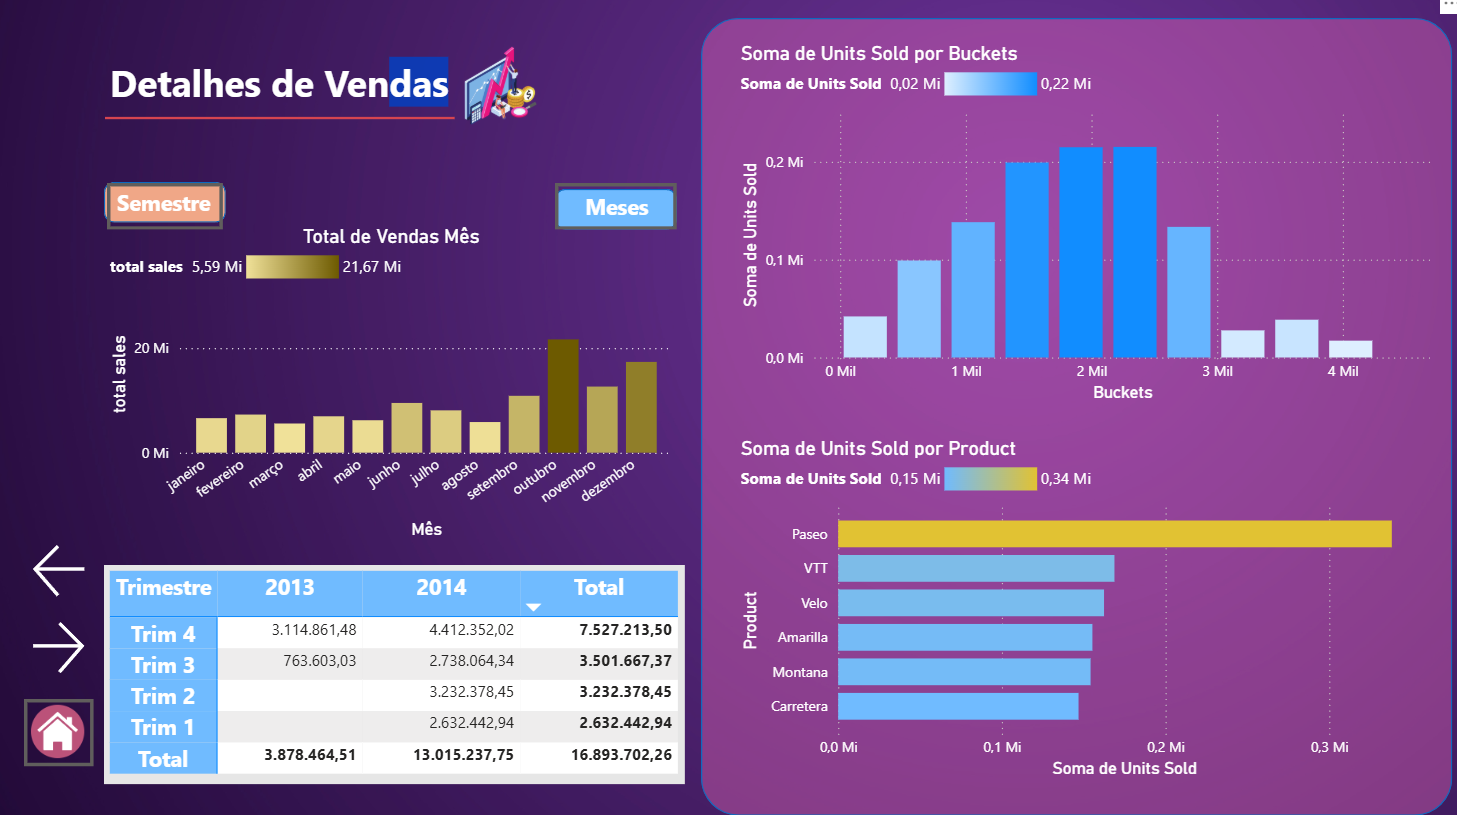

The dashboard page shown, as its layout file describes it:
{"tool":"powerbi","page":{"name":"Detalhes","canvas":[1280,720],"ordinal":2},"visuals":[{"type":"image","box":[5.3,0,1269.4,719.9],"z":0},{"type":"shape","title":"Sublinhado","box":[101.9,81.9,301.6,57],"z":0,"group":"g1"},{"type":"shape","box":[490.2,172.1,105.1,35],"z":0,"group":"g2"},{"type":"shape","box":[616,24,648,688],"z":1000},{"type":"textbox","box":[100.9,53.4,313.4,69.7],"z":1000,"group":"g1"},{"type":"shape","box":[100.9,165.6,105,35],"z":1000,"group":"g3"},{"type":"textbox","box":[492.1,169,103.1,42.2],"z":1000,"group":"g2"},{"type":"actionButton","box":[490.6,166.6,105,40.4],"z":1500,"group":"g2"},{"type":"group","id":"g1","title":"Título","box":[100.9,44.4,379.6,93.9],"z":2000},{"type":"image","title":"Ícone","box":[404.4,44.4,76.6,76.6],"z":2000,"group":"g1"},{"type":"image","box":[32.3,611.7,57.5,55.5],"z":2000,"group":"g4"},{"type":"textbox","box":[100.9,165.6,103.1,42.2],"z":3000,"group":"g3"},{"type":"clusteredBarChart","fields":{"Y":["Sum(financials.Units Sold)"],"Category":["financials.Product"]},"box":[645.4,385.1,605.1,299.6],"z":3000},{"type":"actionButton","box":[32.3,611.7,60,58],"z":3000,"group":"g4"},{"type":"actionButton","box":[103.4,166.3,99.9,40.4],"z":3500,"group":"g3"},{"type":"clusteredColumnChart","fields":{"Y":["Sum(financials.Units Sold)"],"Category":["financials.Buckets"]},"box":[645.4,44.2,605.1,316.3],"z":4000},{"type":"pivotTable","fields":{"Columns":["financials.Date.Variation.Hierarquia de datas.Ano"],"Rows":["financials.Date.Variation.Hierarquia de datas.Trimestre"],"Values":["Sum(financials.Profit)"]},"box":[100.9,495.6,500.7,188.8],"z":5000},{"type":"group","id":"g2","title":"Botão Mês","box":[490.2,166.6,105.4,44.6],"z":6000},{"type":"group","id":"g3","title":"Botão Semestre","box":[100.9,165.6,106,42.4],"z":7000},{"type":"clusteredColumnChart","title":"Total de Vendas Mês","fields":{"Category":["financials.Date.Variation.Hierarquia de datas.Mês"],"Y":["financials.total sales"]},"box":[100.9,201.9,495.6,276.6],"z":9000},{"type":"actionButton","title":"Botão - Next","box":[32.4,539.2,58,56.3],"z":10000},{"type":"actionButton","title":"Botão - Next","box":[34.3,472.4,57.5,56.5],"z":11000},{"type":"group","id":"g4","title":"Botão Home","box":[32.3,611.7,60,58],"z":12000}]}

Visuals, with their boxes in screenshot pixels (x1, y1, x2, y2), scaled from the page's 1280x720 canvas onto the 1457x815 screenshot:
image: bbox=[6, 0, 1451, 814]
"Sublinhado" shape: bbox=[116, 93, 459, 157]
shape: bbox=[558, 195, 678, 234]
shape: bbox=[701, 27, 1439, 806]
textbox: bbox=[115, 60, 472, 139]
shape: bbox=[115, 187, 234, 227]
textbox: bbox=[560, 191, 678, 239]
actionButton: bbox=[558, 189, 678, 234]
"Título" group: bbox=[115, 50, 547, 157]
"Ícone" image: bbox=[460, 50, 548, 137]
image: bbox=[37, 692, 102, 755]
textbox: bbox=[115, 187, 232, 235]
clusteredBarChart - Sum(financials.Units Sold) x financials.Product: bbox=[735, 436, 1423, 775]
actionButton: bbox=[37, 692, 105, 758]
actionButton: bbox=[118, 188, 231, 234]
clusteredColumnChart - Sum(financials.Units Sold) x financials.Buckets: bbox=[735, 50, 1423, 408]
pivotTable - financials.Date.Variation.Hierarquia de datas.Ano x financials.Date.Variation.Hierarquia de datas.Trimestre: bbox=[115, 561, 685, 775]
"Botão Mês" group: bbox=[558, 189, 678, 239]
"Botão Semestre" group: bbox=[115, 187, 236, 235]
"Total de Vendas Mês" clusteredColumnChart: bbox=[115, 229, 679, 542]
"Botão - Next" actionButton: bbox=[37, 610, 103, 674]
"Botão - Next" actionButton: bbox=[39, 535, 104, 599]
"Botão Home" group: bbox=[37, 692, 105, 758]
